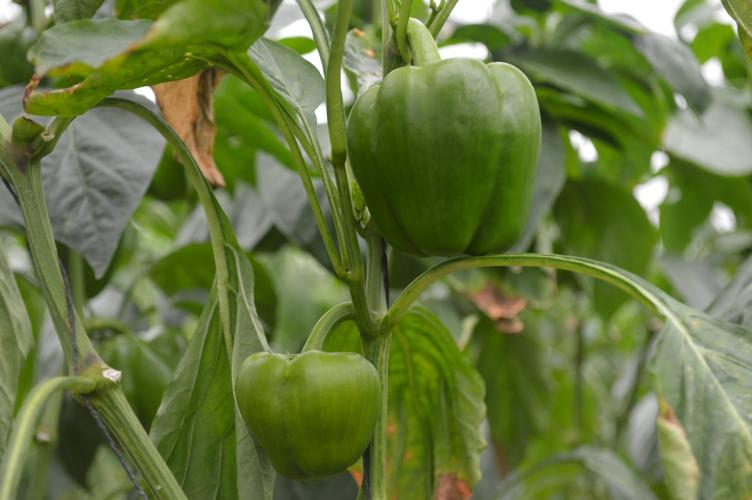BellPepper: (341, 62, 550, 261), (231, 344, 386, 484)
